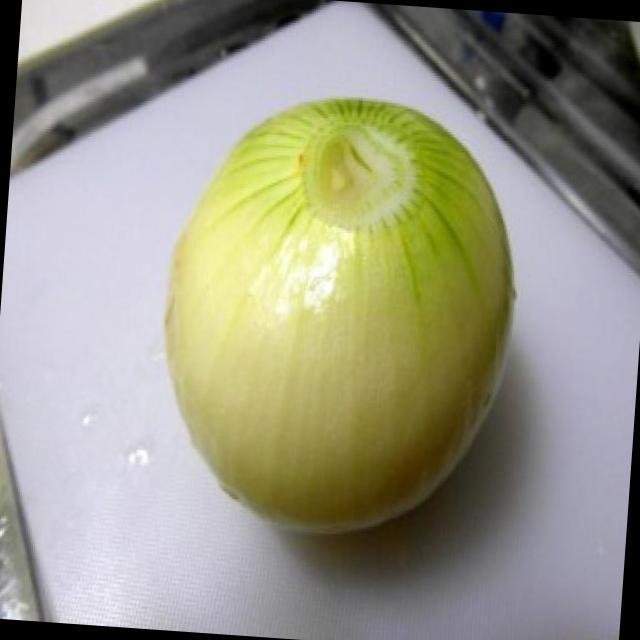Onion: (166, 102, 513, 533)
